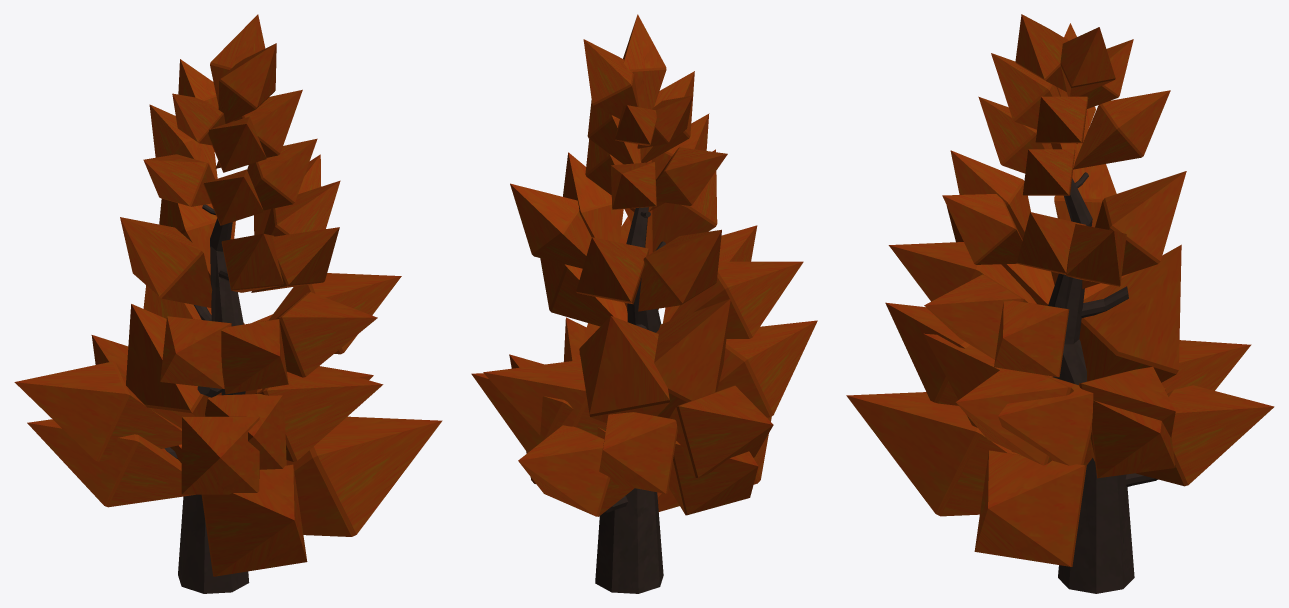
The model's file is tree-green-orange-flowers_6.fbx.
3 renders of one model, left to right at view 1: azimuth 30°, elevation 25°; view 2: azimuth 150°, elevation 25°; view 3: azimuth 270°, elevation 25°, orthographic. The views are drawn at different scales.
Visible parts, largest first — view 1: Cube.010; view 2: Cube.010; view 3: Cube.010.
Part boxes in pixels (x1=…): Cube.010: x1=14, y1=14, x2=442, y2=593; Cube.010: x1=471, y1=14, x2=817, y2=593; Cube.010: x1=846, y1=14, x2=1274, y2=593.
Size of the model in its own units: 193 by 291 by 196.
